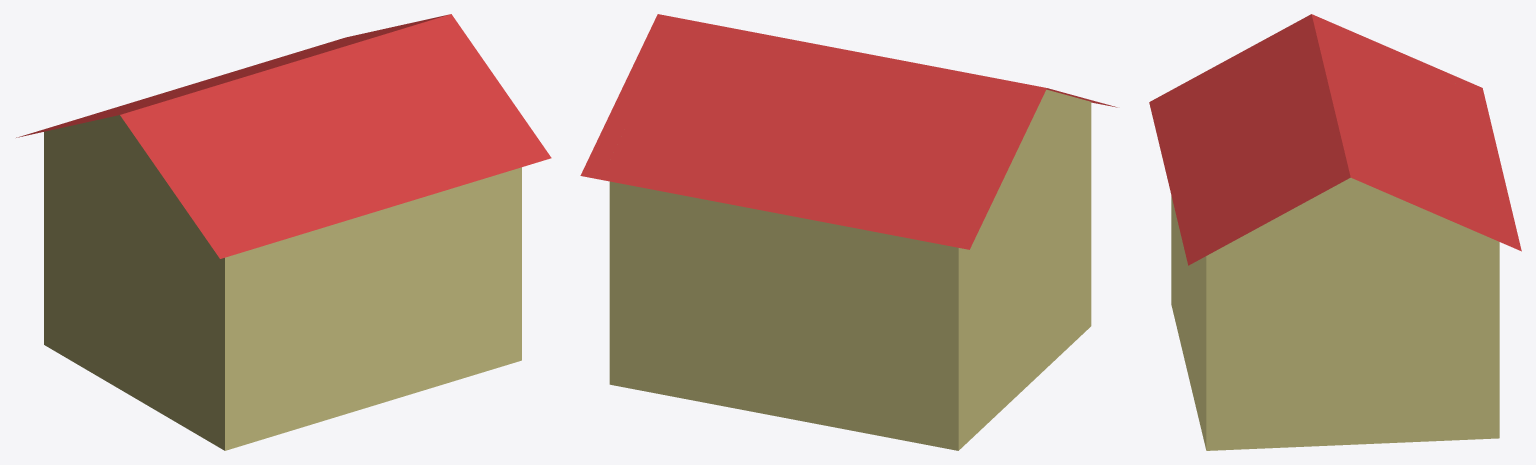
3 views of the same model, side by side, from view 1: azimuth 30°, elevation 25°; view 2: azimuth 150°, elevation 25°; view 3: azimuth 270°, elevation 25° (orthographic). The views are drawn at different scales.
Size of the model in its own units: 15.57 by 13.79 by 11.26.
